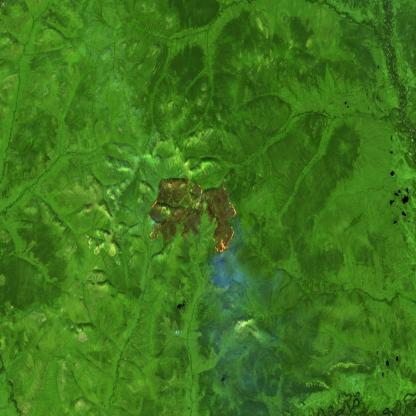fire: (148, 175, 239, 254)
